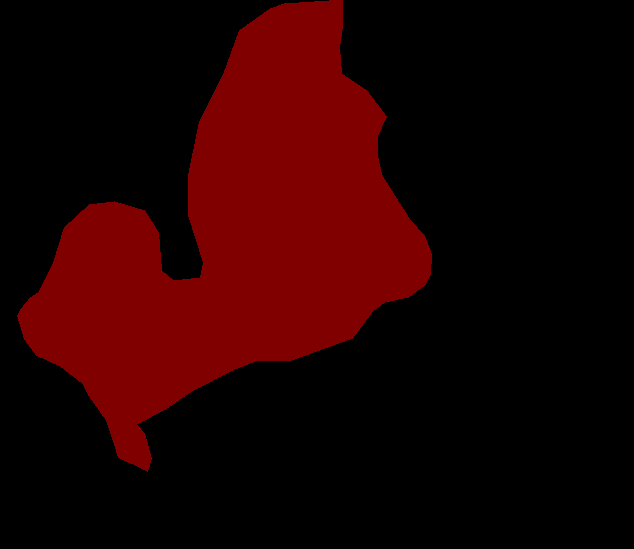fire: (17, 0, 431, 471)
